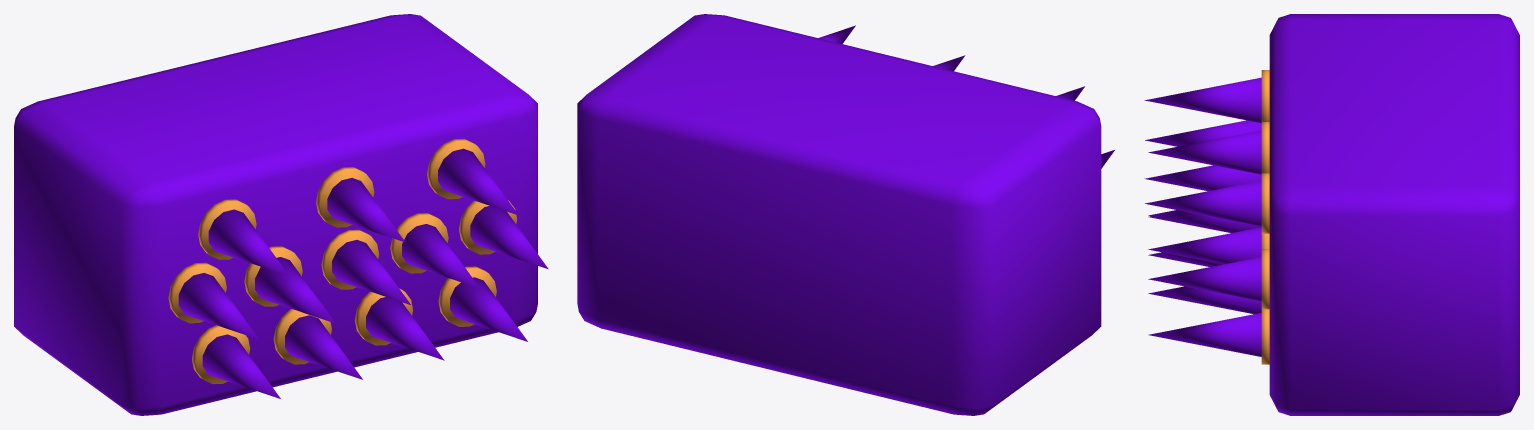
The model's file is Spike_Trap_Wide.fbx.
3 views of the same model, side by side, from view 1: azimuth 30°, elevation 25°; view 2: azimuth 150°, elevation 25°; view 3: azimuth 270°, elevation 25° (orthographic). The views are drawn at different scales.
Parts seen in each view (by area): view 1: spike trap wide.001, spikes wide trap; view 2: spike trap wide.001, spikes wide trap; view 3: spike trap wide.001, spikes wide trap.
Boxes of the visible parts, box(x1,y1,x2,y2) form: spike trap wide.001: box(14, 14, 537, 415); spikes wide trap: box(178, 148, 548, 398); spike trap wide.001: box(577, 14, 1101, 415); spikes wide trap: box(818, 25, 1114, 168); spike trap wide.001: box(1261, 14, 1519, 415); spikes wide trap: box(1144, 77, 1261, 356).
Bounding box in the file's own units: 373 × 195 × 303.
